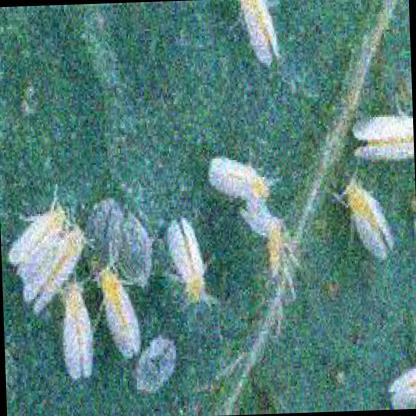whitefly: (10, 211, 82, 317), (163, 223, 206, 308), (64, 283, 94, 378), (208, 158, 268, 201)
